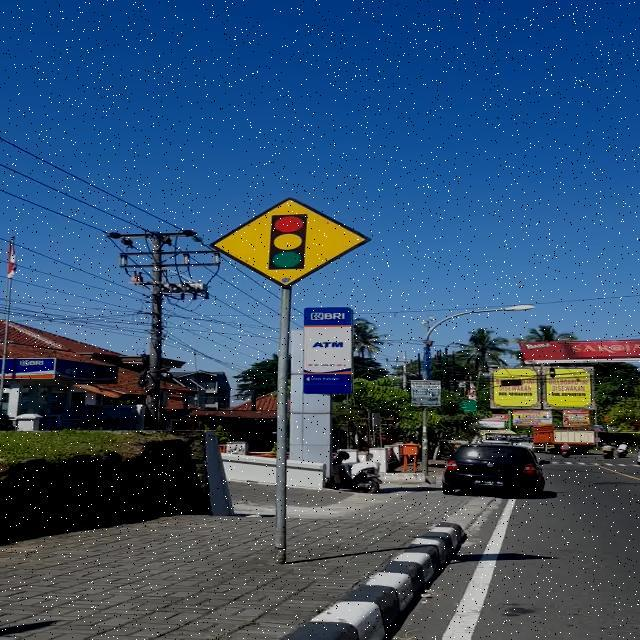Lampu Lalu Lintas: (210, 196, 371, 288)
